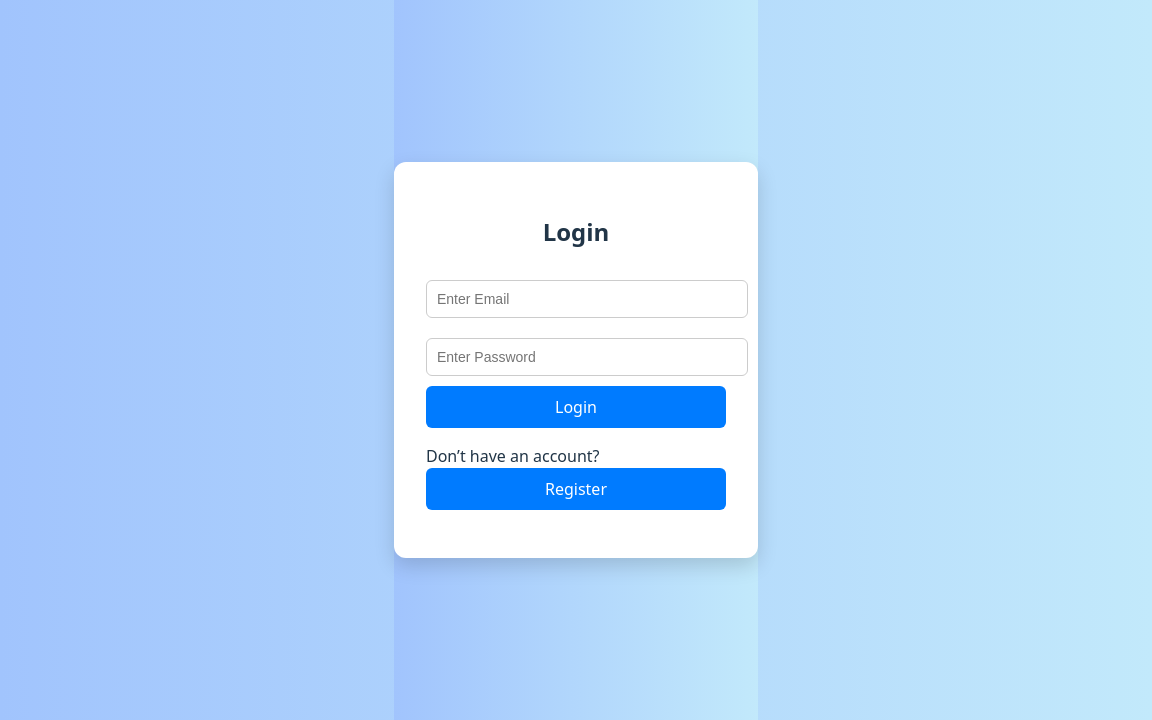
Test: Login Component › logs in successfully and navigates to dashboard
The width and height of the screenshot is (1152, 720).
Type "bhavani@example.com" into the field with placeholder "Enter Email". click: (587, 299)
box: [426,280,748,318]
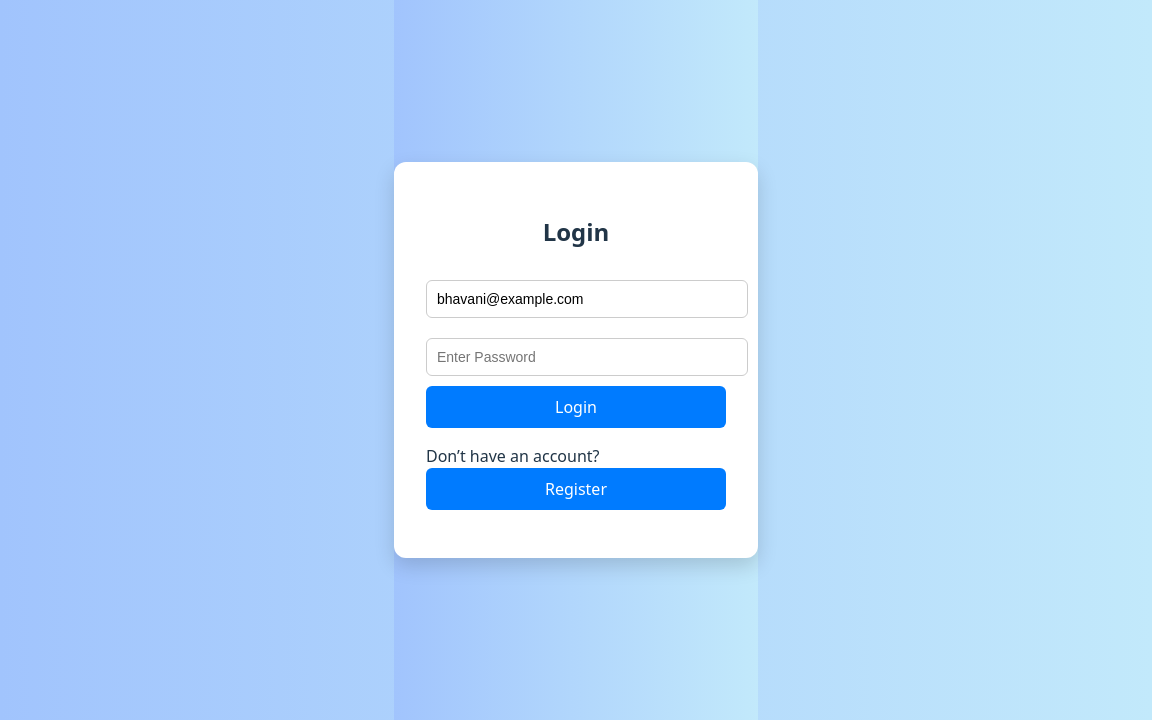
Type "securepass" into the password field with placeholder "Enter Password". click: (587, 357)
box: [426,338,748,376]
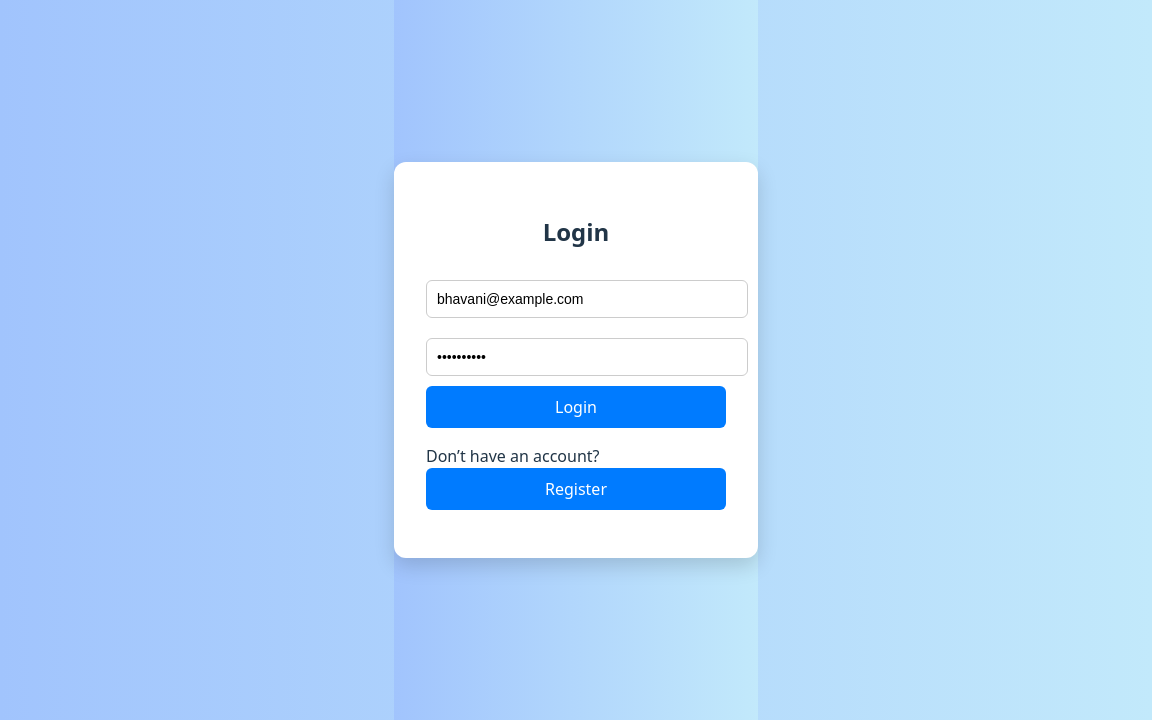
Click the button "Login". click: (576, 407)
box: [426,386,726,428]
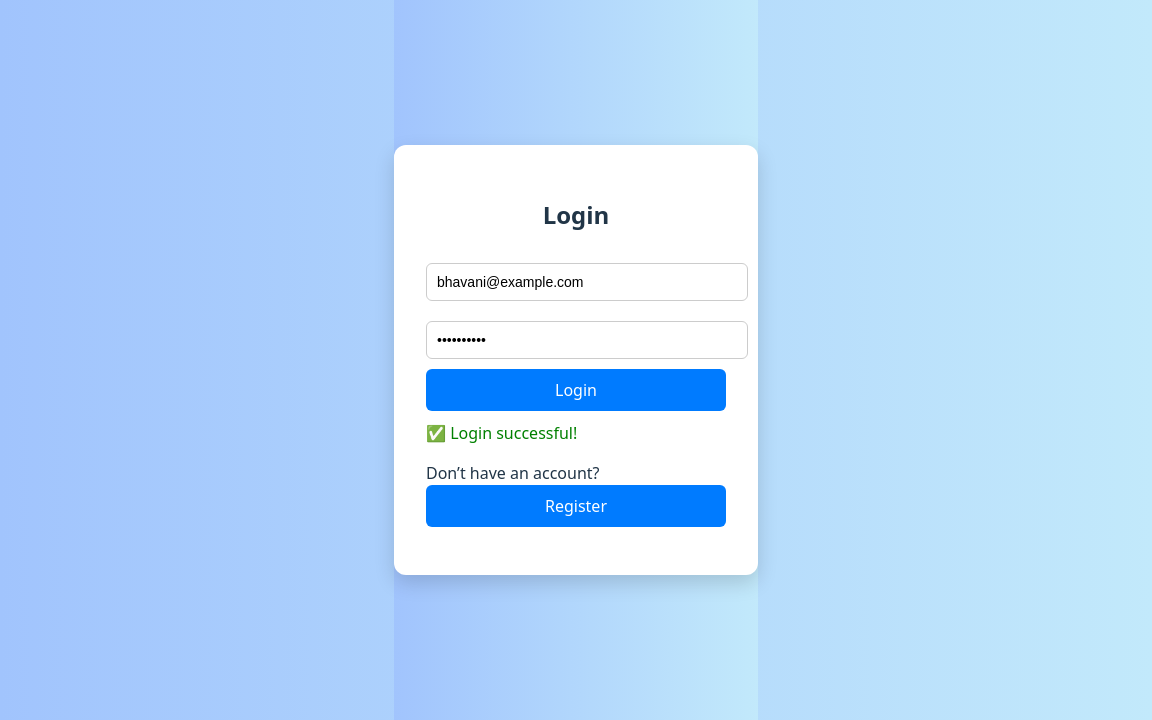
Result: the text "✅ Login successful!" is shown at [426,422,577,444]
